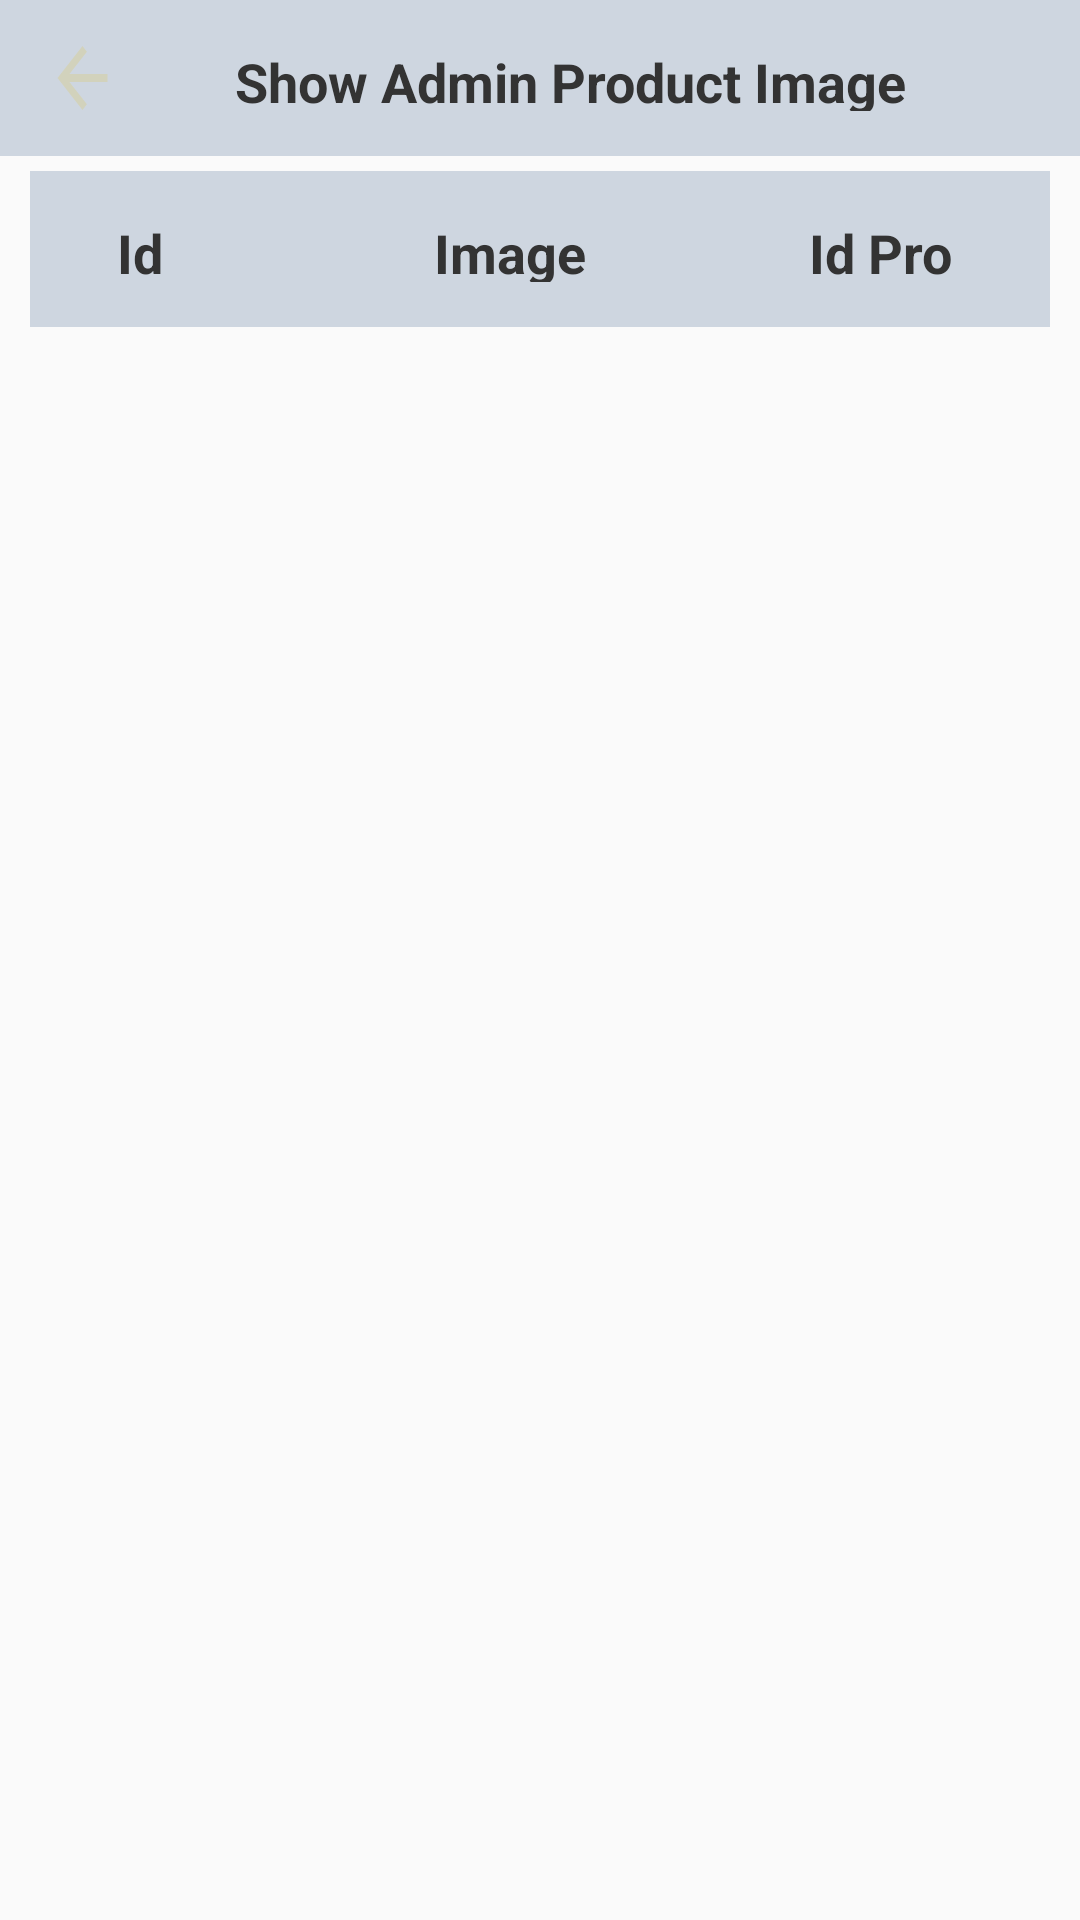

Icon bounding boxes for this 1080 x 1920 phone screenshot, format [x1, y1, x2, y2]:
arrow back: [58, 46, 107, 110]
